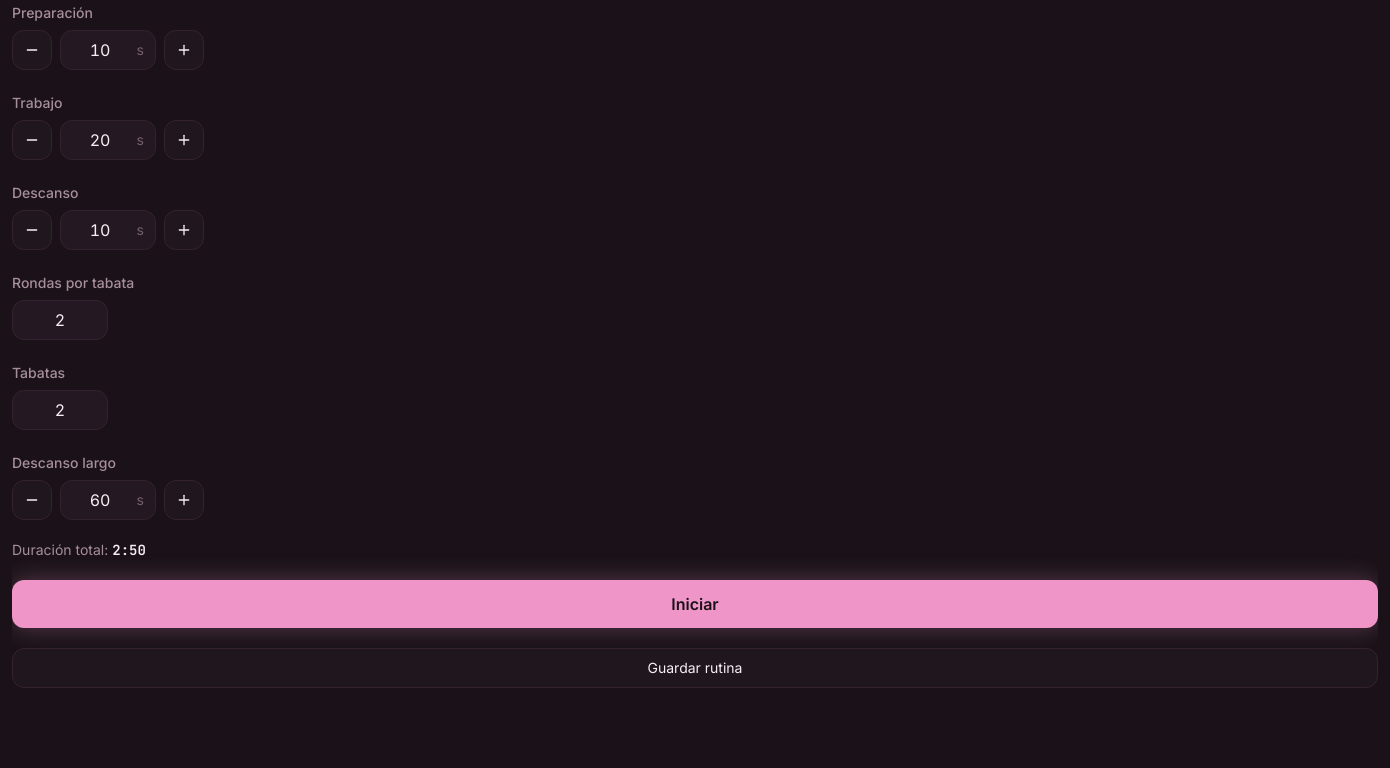
Test: TabataConfigScreen — los seis campos validan igual que Clásico (spec timer-modes) › Preparación = 0 muestra el mensaje español y no inicia
The width and height of the screenshot is (1390, 768).
Replace the text in the field labelled "Preparación" with "0" at (108, 50), box [60,30,156,70]
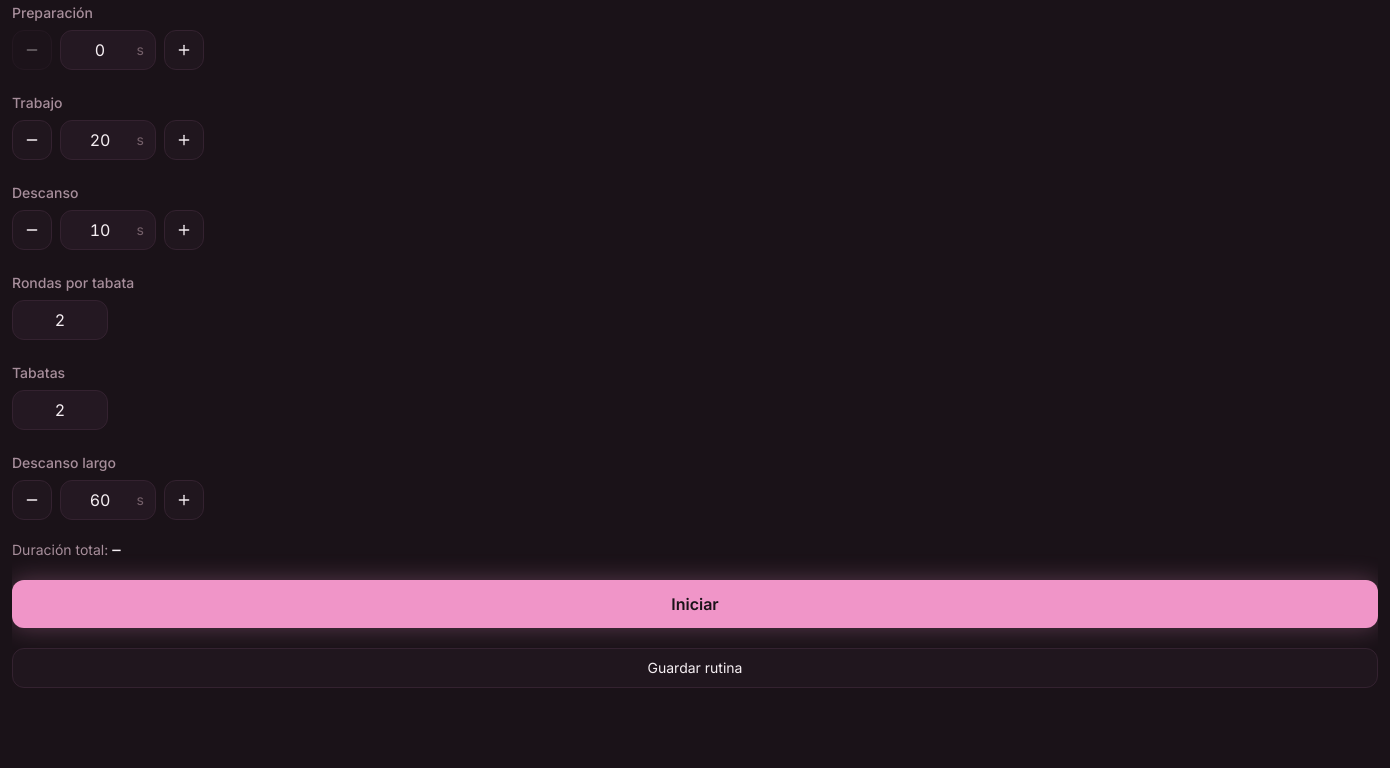
Click the button "Iniciar".
click(695, 604)  # box [12,580,1378,628]
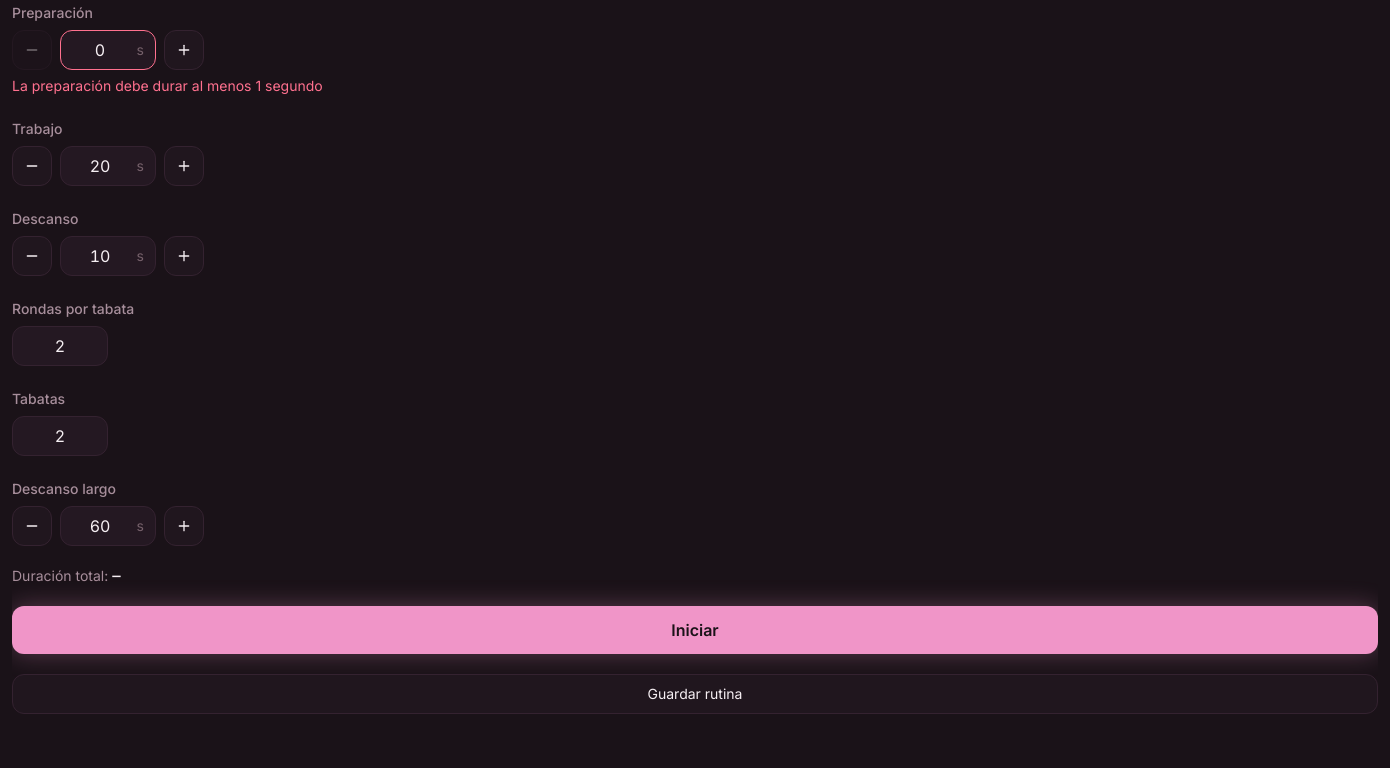
Expected: the text "La preparación debe durar al menos 1 segundo" is shown, [12,77,323,94]
